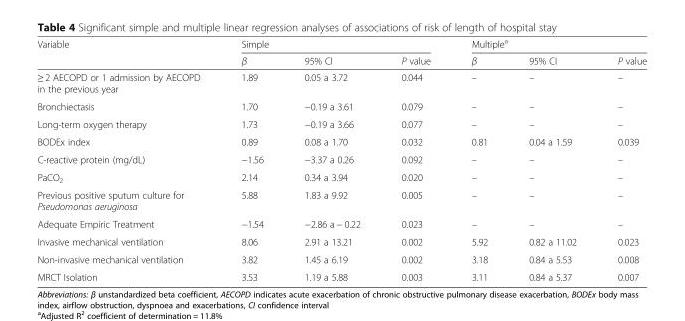table: (36, 36, 646, 282)
table column: (36, 36, 220, 282), (283, 36, 380, 282), (507, 36, 596, 282), (380, 36, 450, 282), (220, 36, 283, 282), (450, 36, 507, 282), (596, 36, 646, 282)
table column header: (36, 36, 646, 68)
table row: (36, 68, 646, 97), (36, 186, 646, 214), (36, 114, 646, 132), (36, 132, 646, 150), (36, 150, 646, 168), (36, 168, 646, 186), (36, 214, 646, 232), (36, 232, 646, 250), (36, 51, 646, 68), (36, 97, 646, 114), (36, 250, 646, 267), (36, 36, 646, 51), (36, 267, 646, 282)
table spanning cell: (36, 36, 220, 68), (220, 36, 450, 51), (450, 36, 646, 51)
